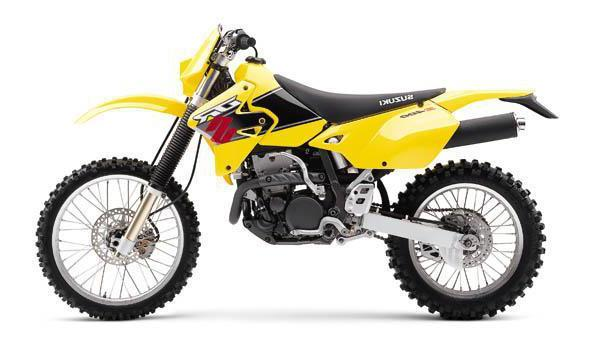motorcycle: (19, 11, 568, 335)
